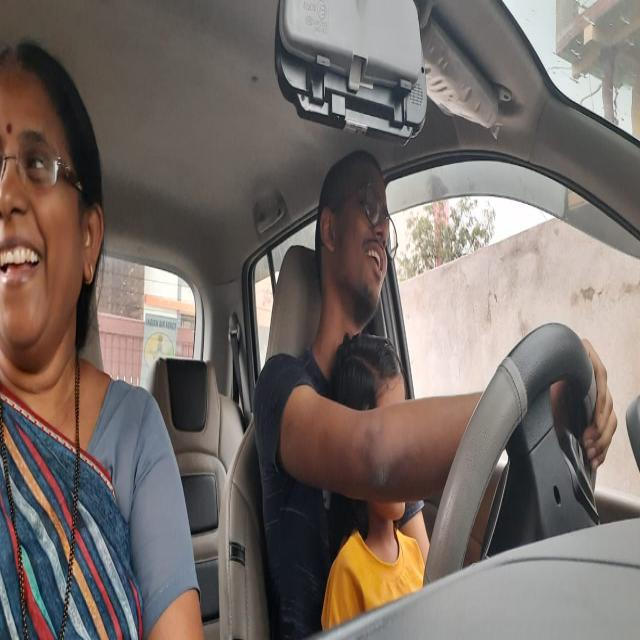child: (336, 328, 411, 522)
person: (0, 42, 108, 372), (316, 148, 392, 316)
